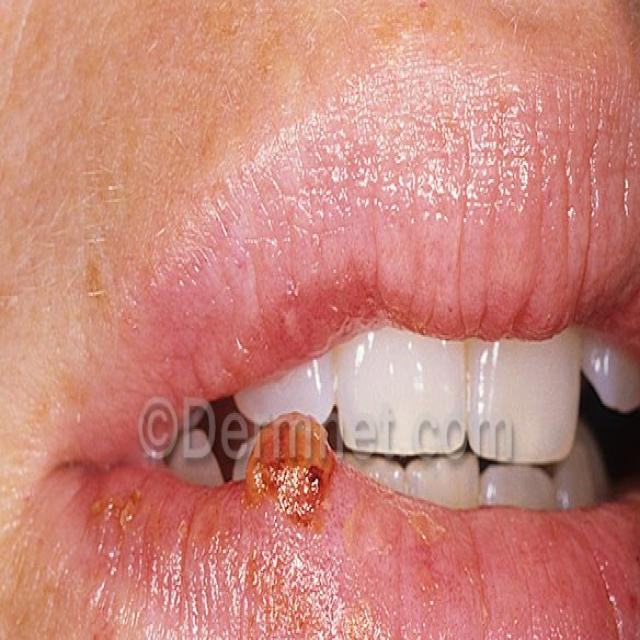Vascular Tumors: (86, 448, 154, 640), (237, 406, 339, 531)
